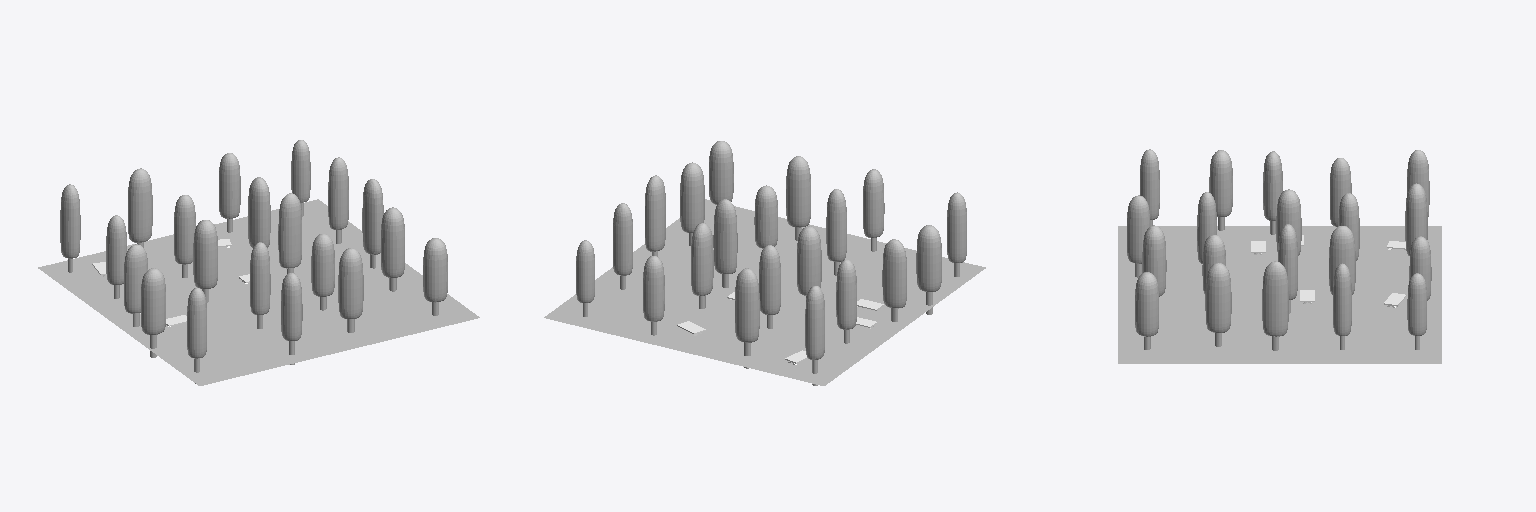
The model's file is trees_benches.obj.
The picture shows the model from 3 angles: view 1: azimuth 30°, elevation 25°; view 2: azimuth 150°, elevation 25°; view 3: azimuth 270°, elevation 25°; orthographic projection.
Visible parts, largest first — view 1: Plane, Loft.1_1, Loft.1_18, Loft.1_10, Loft.1_9, Loft.1_15, Loft.1_12, Loft.1_19, Loft.1_6, Loft.1_11, Loft.1, Loft.1_7 (+9 smaller); view 2: Plane, Loft.1_1, Loft.1_10, Loft.1_18, Loft.1_12, Loft.1_8, Loft.1_15, Loft.1_6, Loft.1_9, Loft.1_11, Loft.1_19, Loft.1_5 (+9 smaller); view 3: Plane, Loft.1_11, Loft.1_15, Loft.1_19, Loft.1_12, Loft.1_7, Loft.1_17, Loft.1_18, Loft.1_1, Loft.1_6, Loft.1_3, Loft.1_8 (+9 smaller).
Part boxes in pixels (bbox=[...]): Plane: bbox=[38, 199, 479, 385]; Loft.1_1: bbox=[128, 168, 152, 242]; Loft.1_18: bbox=[338, 248, 363, 318]; Loft.1_10: bbox=[278, 193, 301, 268]; Loft.1_9: bbox=[193, 220, 217, 288]; Loft.1_15: bbox=[381, 207, 404, 277]; Loft.1_12: bbox=[141, 268, 165, 334]; Loft.1_19: bbox=[423, 238, 447, 302]; Loft.1_6: bbox=[248, 177, 270, 247]; Loft.1_11: bbox=[362, 179, 383, 254]; Loft.1: bbox=[60, 184, 80, 258]; Loft.1_7: bbox=[328, 157, 348, 229]; Plane: bbox=[544, 199, 985, 385]; Loft.1_1: bbox=[735, 268, 759, 342]; Loft.1_10: bbox=[713, 199, 737, 273]; Loft.1_18: bbox=[786, 156, 810, 227]; Loft.1_12: bbox=[916, 225, 941, 291]; Loft.1_8: bbox=[882, 239, 906, 308]; Loft.1_15: bbox=[680, 162, 704, 232]; Loft.1_6: bbox=[691, 223, 713, 295]; Loft.1_9: bbox=[797, 226, 821, 295]; Loft.1_11: bbox=[645, 175, 665, 251]; Loft.1_19: bbox=[709, 141, 733, 204]; Loft.1_5: bbox=[759, 245, 780, 314]; Plane: bbox=[1118, 226, 1441, 363]; Loft.1_11: bbox=[1262, 261, 1288, 336]; Loft.1_15: bbox=[1205, 263, 1231, 332]; Loft.1_19: bbox=[1135, 272, 1158, 336]; Loft.1_12: bbox=[1209, 150, 1232, 216]; Loft.1_7: bbox=[1333, 263, 1351, 335]; Loft.1_17: bbox=[1127, 195, 1149, 263]; Loft.1_18: bbox=[1142, 225, 1166, 296]; Loft.1_1: bbox=[1405, 183, 1427, 255]; Loft.1_6: bbox=[1329, 226, 1355, 294]; Loft.1_3: bbox=[1407, 273, 1426, 335]; Loft.1_8: bbox=[1263, 151, 1282, 220].
Size of the model in its own units: 408 by 137 by 400.